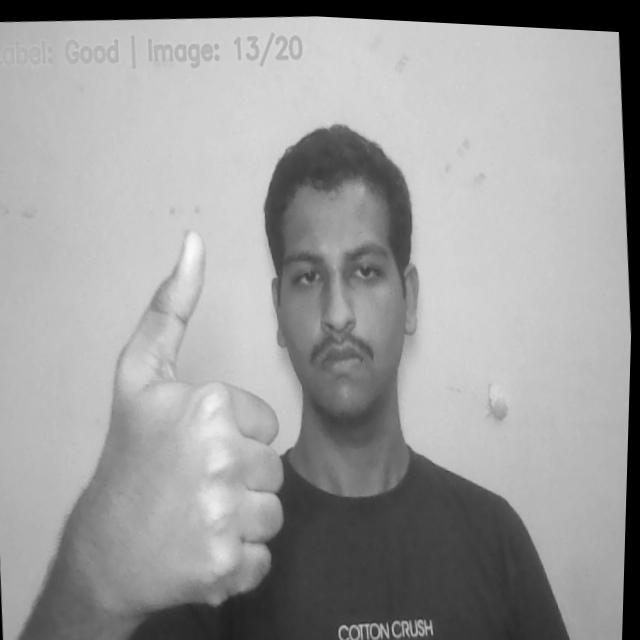Good: (62, 218, 302, 619)
